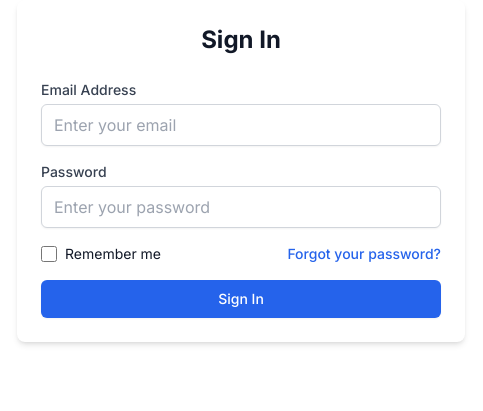
it: LoginForm › should validate required fields
Click the button "Sign In".
click(241, 299)  # box x1=41 y1=280 x2=441 y2=318
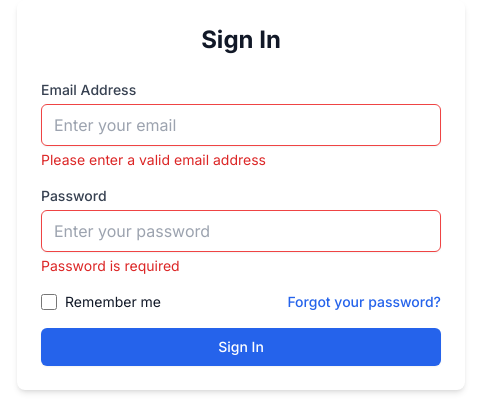
Expected: the text "Please enter a valid email address" is shown, x1=41 y1=151 x2=266 y2=168
Expected: the text "Password is required" is shown, x1=41 y1=257 x2=180 y2=274
